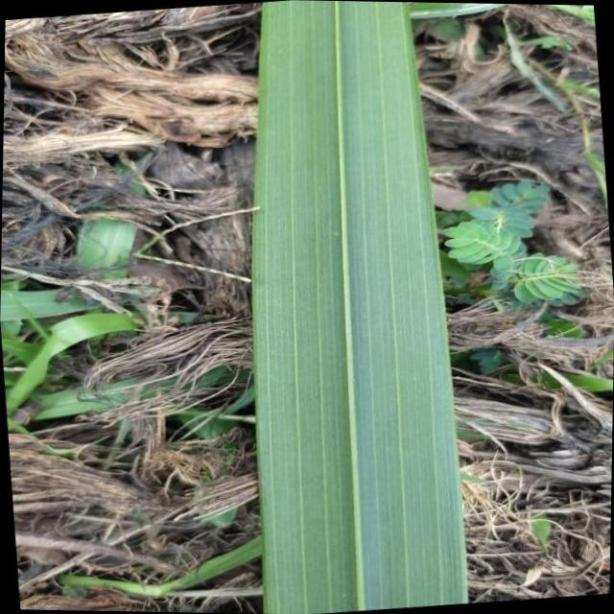Healthy: (251, 0, 467, 614)
